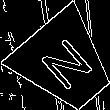N_SE: (33, 32, 98, 97)
